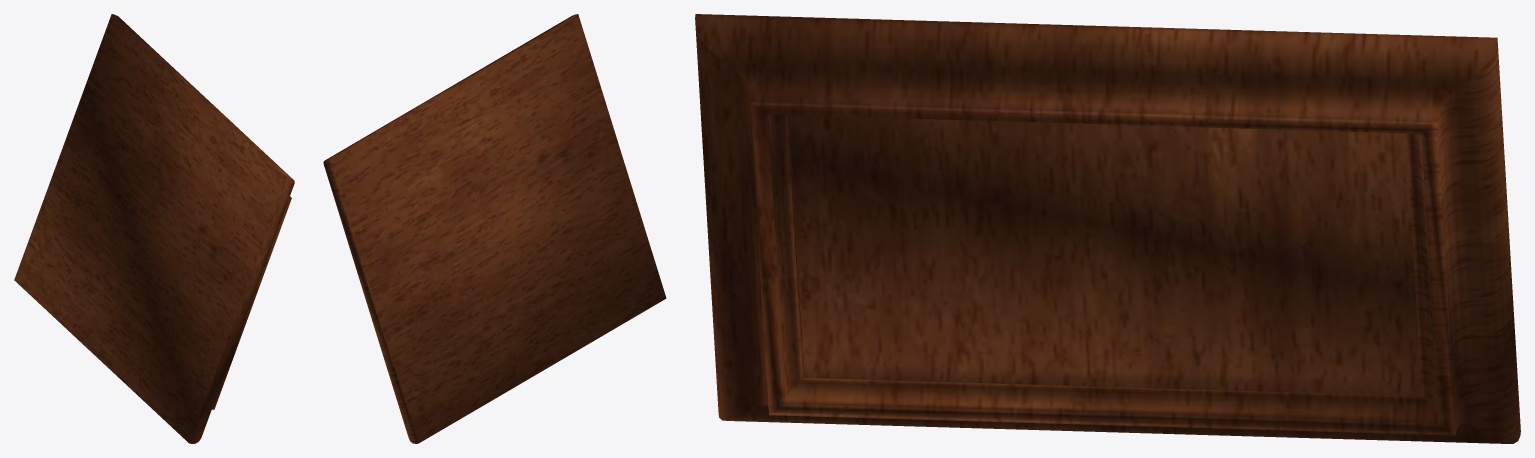
File: cuadro2.glb
3 views of the same model, side by side, from view 1: azimuth 30°, elevation 25°; view 2: azimuth 150°, elevation 25°; view 3: azimuth 270°, elevation 25° (orthographic). The views are drawn at different scales.
Visible parts, largest first — view 1: Marco.004; view 2: Marco.004; view 3: Marco.004.
Boxes of the visible parts, box(x1,y1,x2,y2) form: Marco.004: box(14, 14, 294, 443); Marco.004: box(323, 14, 666, 443); Marco.004: box(695, 14, 1520, 443).
Bounding box in the file's own units: 0.0677 × 0.1183 × 0.1805.
Materials: 1 (1 with a texture image).
